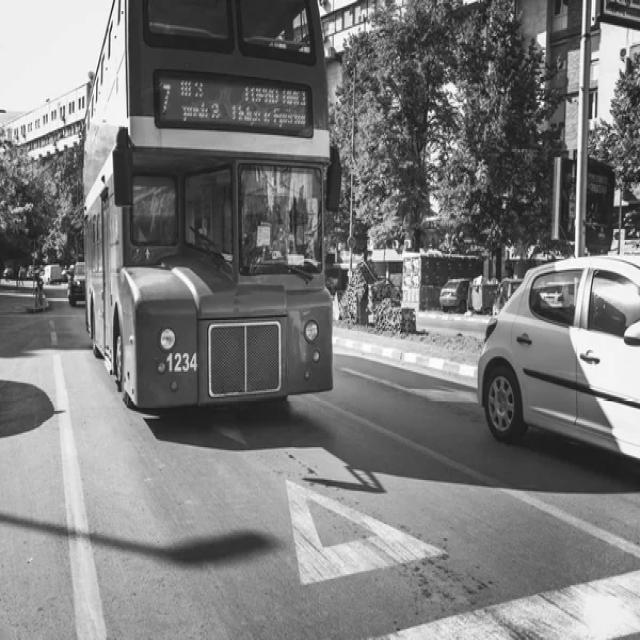Bus: (85, 0, 336, 409)
Car: (479, 257, 640, 459)
